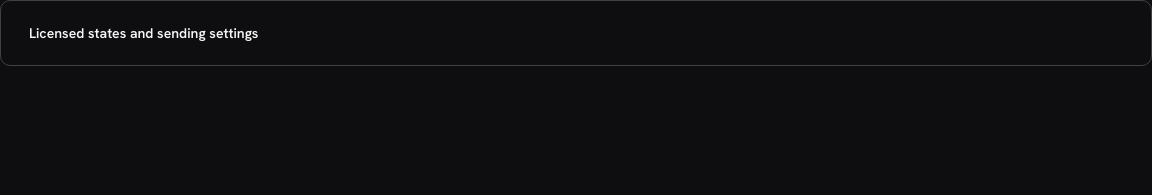
Test: consumer campaign owner settings › shows an access failure without exposing editable settings
The width and height of the screenshot is (1152, 195).
Click the button "Licensed states and sending settings" at (144, 33), box x1=13 y1=13 x2=1139 y2=53
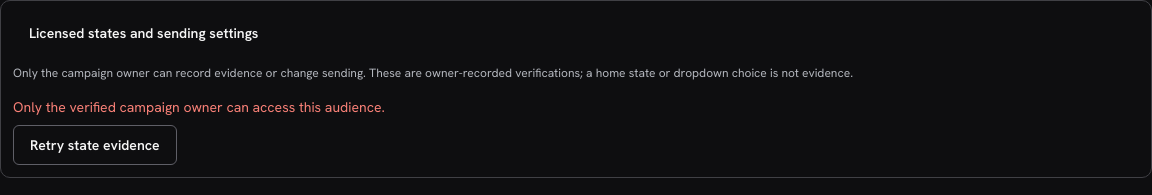
Now the message shows "Only the verified campaign owner", box x1=13 y1=98 x2=385 y2=116
